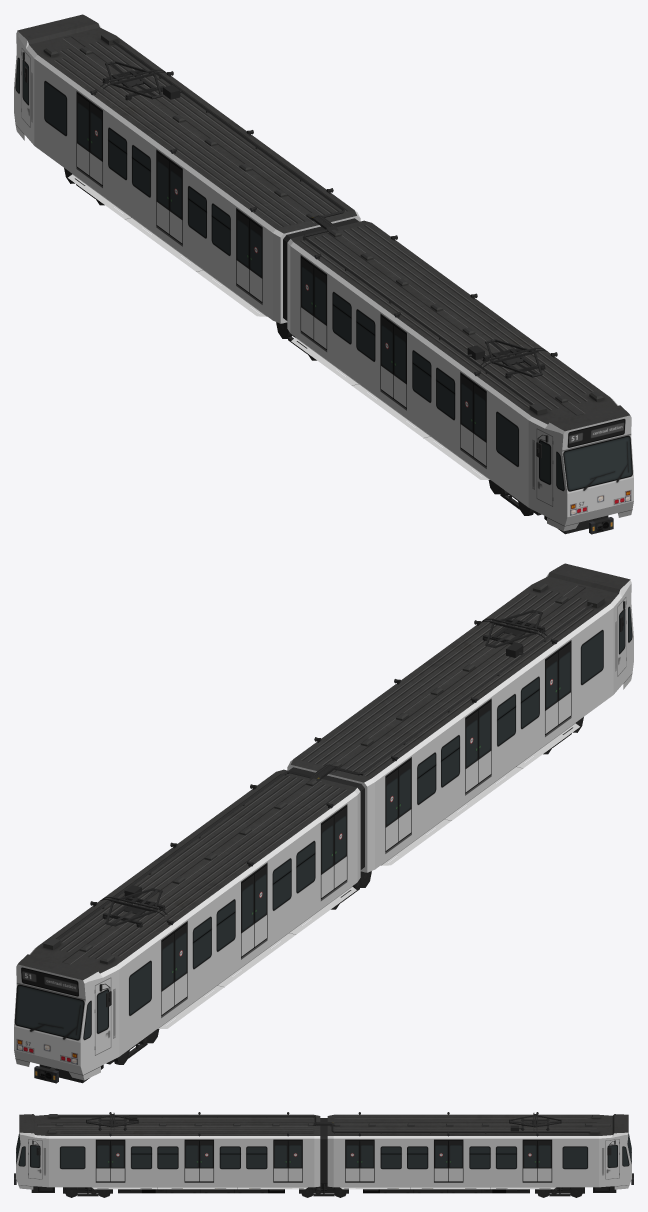
The picture shows the model from 3 angles, top to bottom: view 1: azimuth 30°, elevation 25°; view 2: azimuth 150°, elevation 25°; view 3: azimuth 270°, elevation 25°; orthographic projection. The views are drawn at different scales.
Visible parts, largest first — view 1: Sneltram.Bak.Metro.001, Sneltram.Bak.Metro, Sneltram.Draaistel.001; view 2: Sneltram.Bak.Metro, Sneltram.Bak.Metro.001, Sneltram.Draaistel.001; view 3: Sneltram.Bak.Metro, Sneltram.Bak.Metro.001, Sneltram.Draaistel.001.
Part boxes in pixels (<box>): Sneltram.Bak.Metro.001: <box>287,220,633,534</box>; Sneltram.Bak.Metro: <box>14,14,360,323</box>; Sneltram.Draaistel.001: <box>276,215,359,360</box>; Sneltram.Bak.Metro: <box>14,769,360,1083</box>; Sneltram.Bak.Metro.001: <box>287,563,633,872</box>; Sneltram.Draaistel.001: <box>289,764,371,909</box>; Sneltram.Bak.Metro: <box>327,1112,633,1197</box>; Sneltram.Bak.Metro.001: <box>14,1112,320,1197</box>; Sneltram.Draaistel.001: <box>299,1118,348,1197</box>.
Size of the model in its own units: 3.13 by 3.82 by 30.21.
Materials: 2 (2 with a texture image).
